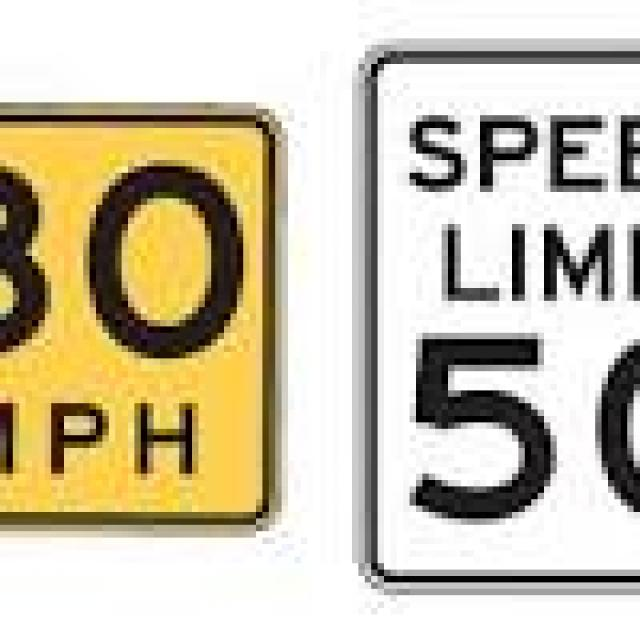speedLimit50: (352, 48, 634, 579)
